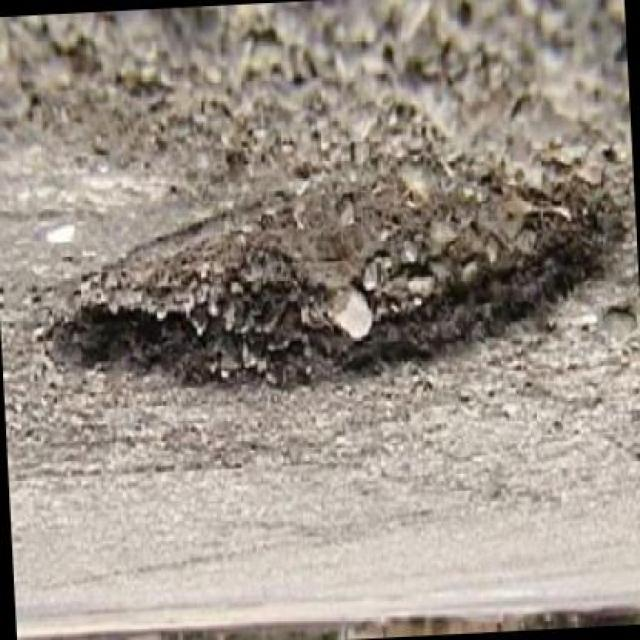pothole: (34, 102, 634, 404)
